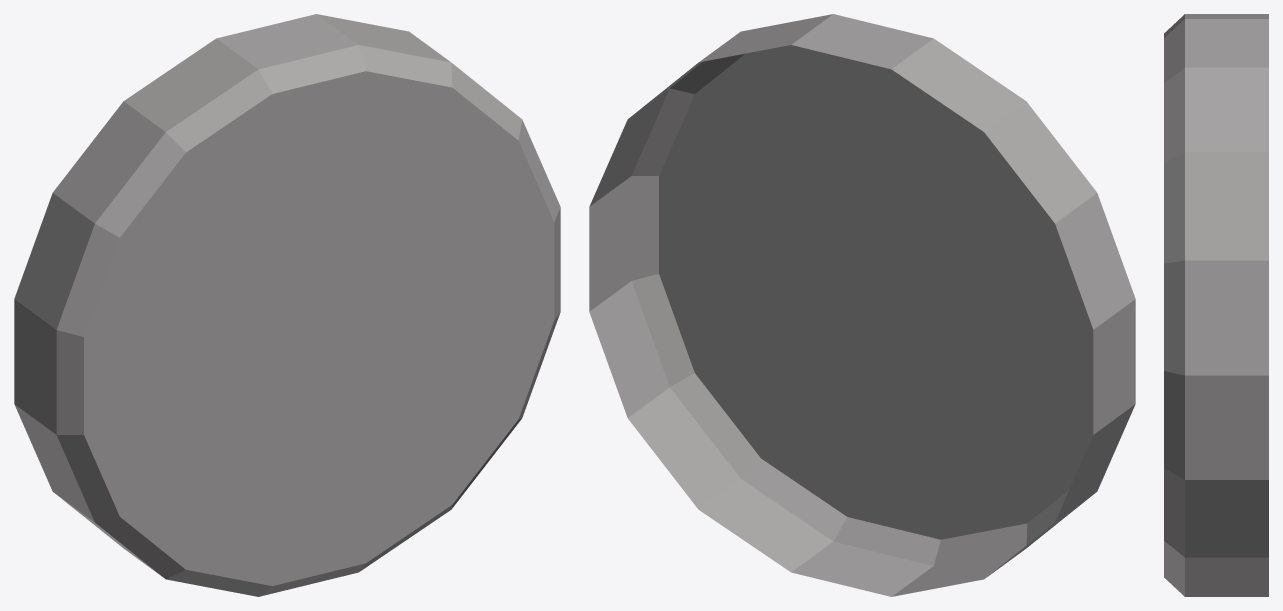
The model's file is HeadTrapBase_2_Metal.fbx.
The picture shows the model from 3 angles, left to right: view 1: azimuth 30°, elevation 25°; view 2: azimuth 150°, elevation 25°; view 3: azimuth 270°, elevation 25°; orthographic projection.
Visible parts, largest first — view 1: HeadTrapBase_2_Metal; view 2: HeadTrapBase_2_Metal; view 3: HeadTrapBase_2_Metal.
Boxes of the visible parts, box(x1,y1,x2,y2) form: HeadTrapBase_2_Metal: box(14, 14, 560, 596); HeadTrapBase_2_Metal: box(589, 14, 1135, 596); HeadTrapBase_2_Metal: box(1164, 14, 1268, 596).
Bounding box in the file's own units: 53.66 × 53.66 × 9.74.
